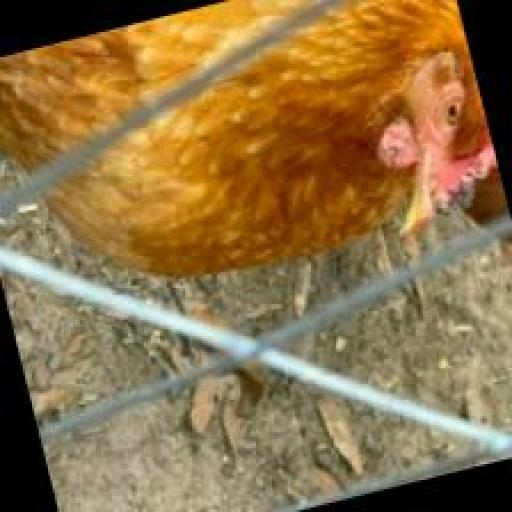disease: (429, 153, 496, 224), (375, 129, 411, 173)
